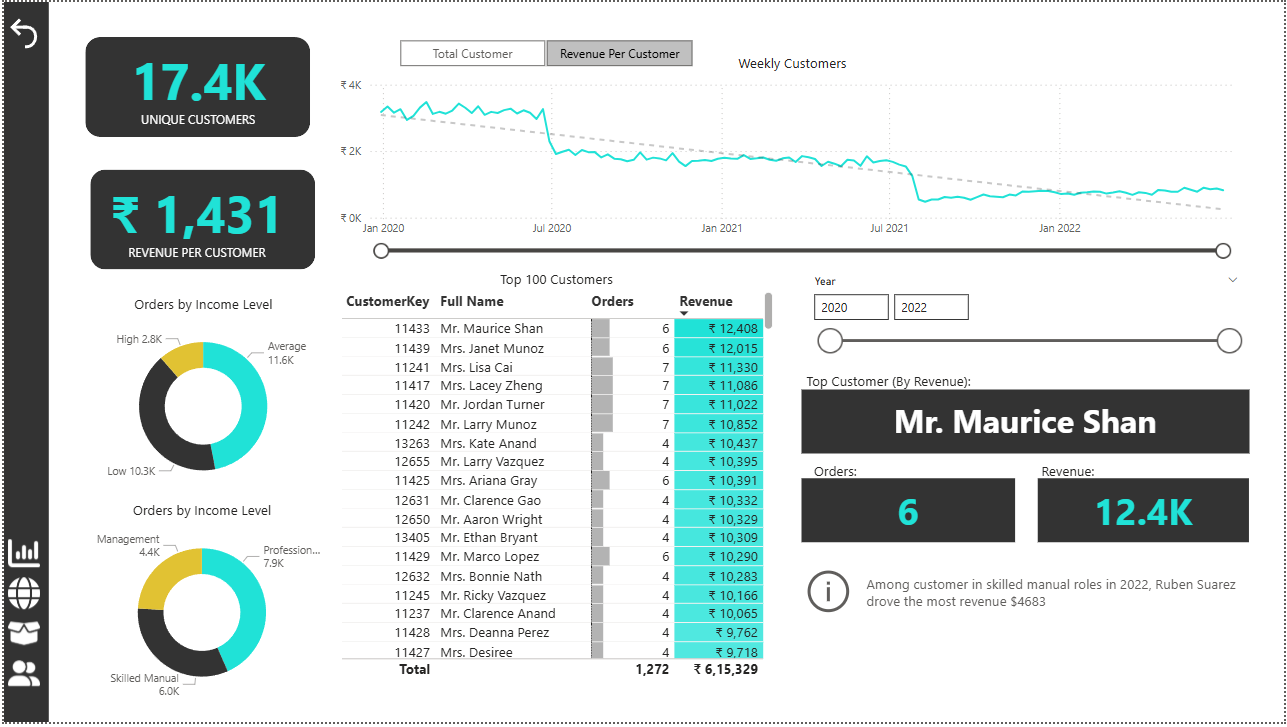

The page's visual inventory and layout, read from the dashboard file:
{"tool":"powerbi","page":{"name":"Customer Detail","canvas":[1280,720],"ordinal":3},"visuals":[{"type":"shape","title":"Left NAV Background","box":[0,0,45,720],"z":0},{"type":"actionButton","box":[0,531.2,45,40],"z":0,"group":"g1"},{"type":"actionButton","box":[0,571.2,45,40],"z":1000,"group":"g1"},{"type":"shape","box":[86.5,167.5,225,100],"z":1000},{"type":"shape","box":[81,35.5,225,100],"z":2000},{"type":"actionButton","box":[0,611.2,45,40],"z":2000,"group":"g1"},{"type":"card","fields":{"Values":["Measure Table.Total Customer"]},"box":[66,10.5,256.2,150],"z":3000},{"type":"actionButton","box":[0,651.2,45,40],"z":3000,"group":"g1"},{"type":"card","fields":{"Values":["Measure Table.Average Revenue Per Customer"]},"box":[64.8,142,256.2,150],"z":4000},{"type":"lineChart","title":"Weekly Customers","fields":{"Y":["Measure Table.Average Revenue Per Customer"],"Category":["Calendar Lookup.Date Hierarchy.Start of Year","Calendar Lookup.Date Hierarchy.Start of Month","Calendar Lookup.Date Hierarchy.Start of Week","Calendar Lookup.Date Hierarchy.Date"]},"box":[331.3,51.5,914.1,208.6],"z":5000},{"type":"donutChart","title":"Orders by Income Level","fields":{"Category":["Customer Lookup.Income Level"],"Y":["Measure Table.Total Orders"]},"box":[76.2,292.5,246.2,206.2],"z":6000},{"type":"donutChart","title":"Orders by Income Level","fields":{"Category":["Customer Lookup.Occupation"],"Y":["Measure Table.Total Orders"]},"box":[75,498.8,246.2,206.2],"z":7000},{"type":"tableEx","title":"Top 100 Customers","fields":{"Values":["Customer Lookup.CustomerKey","Customer Lookup.Full Name","Measure Table.Total Orders","Measure Table.Total Revenue"]},"box":[331.2,267.5,442.5,412.5],"z":8000},{"type":"card","fields":{"Values":["Customer Lookup.Full Name (Customer Detail)"]},"box":[797.5,387.7,447.9,63.8],"z":9000},{"type":"card","fields":{"Values":["Measure Table.Total Orders (Customer Details)"]},"box":[797.4,476.8,213.5,63.8],"z":10000},{"type":"card","fields":{"Values":["Measure Table.Total Revenue (Customer Detail)"]},"box":[1034.2,476.8,211,63.8],"z":11000},{"type":"textbox","box":[797.4,365.4,213.5,42.9],"z":12000},{"type":"textbox","box":[804.8,454.7,206.1,42.9],"z":13000},{"type":"textbox","box":[1033,454.7,213.5,42.9],"z":14000},{"type":"slicer","fields":{"Values":["Calendar Lookup.Year"]},"box":[797.5,267.5,448.8,91.2],"z":15000},{"type":"actionButton","box":[797.5,562.5,447.5,53.8],"z":16000},{"type":"actionButton","box":[0,11.2,45,40],"z":17000},{"type":"group","id":"g1","title":"Navigation Buttons","box":[0,531.2,45,160],"z":18000},{"type":"slicer","fields":{"Values":["Customer Metric Selection.Customer Metric Selection"]},"box":[370.6,30.7,342.3,36.8],"z":18501}]}

Visuals, with their boxes on the page's 1280x720 design canvas (x1, y1, x2, y2). These are canvas units, not pixel positions in the 1287x727 screenshot, which may show the page scaled, cropped or inside an application window:
"Left NAV Background" shape: left=0, top=0, right=45, bottom=720
actionButton: left=0, top=531, right=45, bottom=571
actionButton: left=0, top=571, right=45, bottom=611
shape: left=86, top=168, right=312, bottom=268
shape: left=81, top=36, right=306, bottom=136
actionButton: left=0, top=611, right=45, bottom=651
card - Measure Table.Total Customer: left=66, top=10, right=322, bottom=160
actionButton: left=0, top=651, right=45, bottom=691
card - Measure Table.Average Revenue Per Customer: left=65, top=142, right=321, bottom=292
"Weekly Customers" lineChart: left=331, top=52, right=1245, bottom=260
"Orders by Income Level" donutChart: left=76, top=292, right=322, bottom=499
"Orders by Income Level" donutChart: left=75, top=499, right=321, bottom=705
"Top 100 Customers" tableEx: left=331, top=268, right=774, bottom=680
card - Customer Lookup.Full Name (Customer Detail): left=798, top=388, right=1245, bottom=452
card - Measure Table.Total Orders (Customer Details): left=797, top=477, right=1011, bottom=541
card - Measure Table.Total Revenue (Customer Detail): left=1034, top=477, right=1245, bottom=541
textbox: left=797, top=365, right=1011, bottom=408
textbox: left=805, top=455, right=1011, bottom=498
textbox: left=1033, top=455, right=1246, bottom=498
slicer - Calendar Lookup.Year: left=798, top=268, right=1246, bottom=359
actionButton: left=798, top=562, right=1245, bottom=616
actionButton: left=0, top=11, right=45, bottom=51
"Navigation Buttons" group: left=0, top=531, right=45, bottom=691
slicer - Customer Metric Selection.Customer Metric Selection: left=371, top=31, right=713, bottom=68
